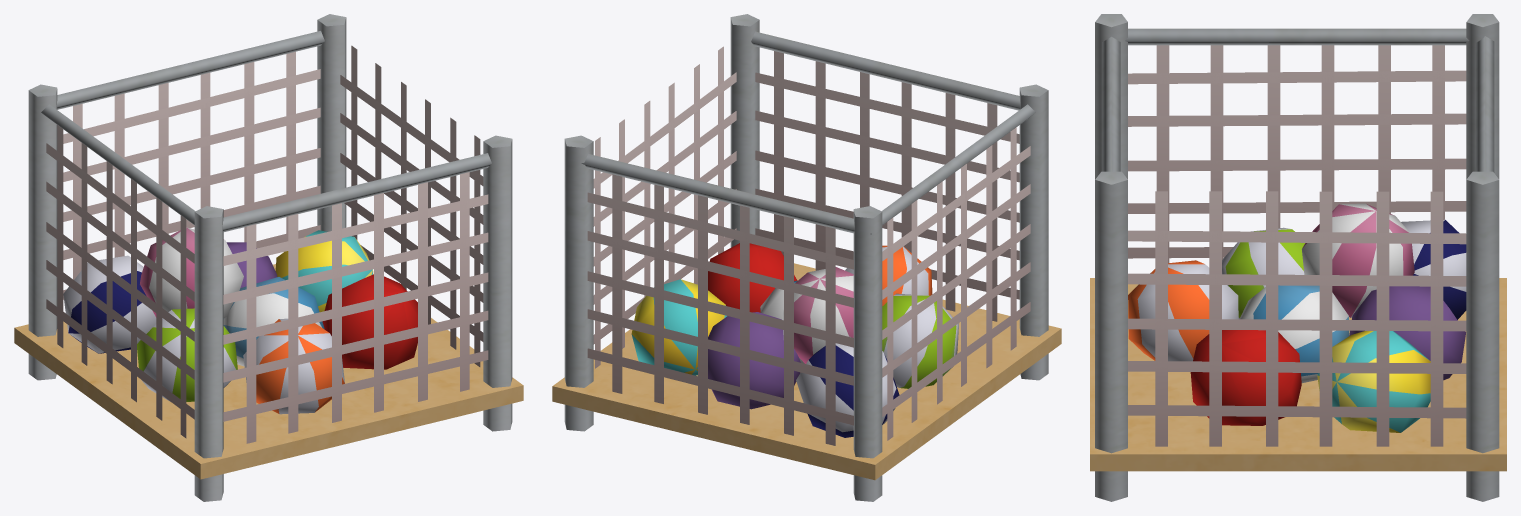
Rendered from Ball_Box_02.fbx.
3 renders of one model, left to right at view 1: azimuth 30°, elevation 25°; view 2: azimuth 150°, elevation 25°; view 3: azimuth 270°, elevation 25°, orthographic. The views are drawn at different scales.
Visible parts, largest first — view 1: Ball_Box_02; view 2: Ball_Box_02; view 3: Ball_Box_02.
Part boxes in pixels (left/top/right/bottom): Ball_Box_02: left=14, top=14, right=523, bottom=501; Ball_Box_02: left=552, top=14, right=1061, bottom=501; Ball_Box_02: left=1090, top=14, right=1506, bottom=501.
Size of the model in its own units: 0.3363 by 0.2824 by 0.3363.
